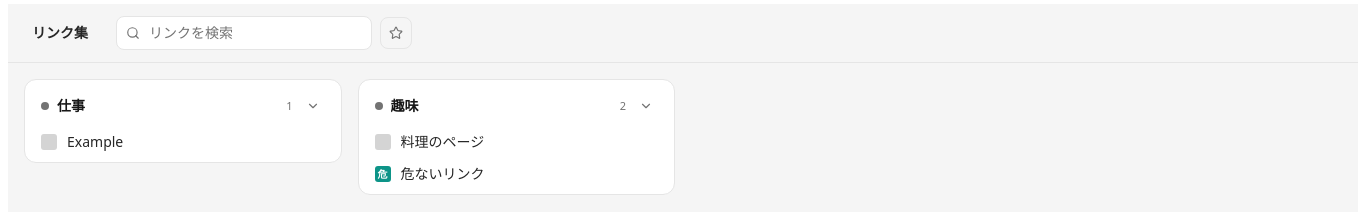
カードをたたむ（collapsible） › 閲覧専用でも、たためる
Expected: the text "Example" is shown, [67,132,123,152]
Click the button named "「仕事」をたたむ" at (312, 106), box [300,94,324,118]
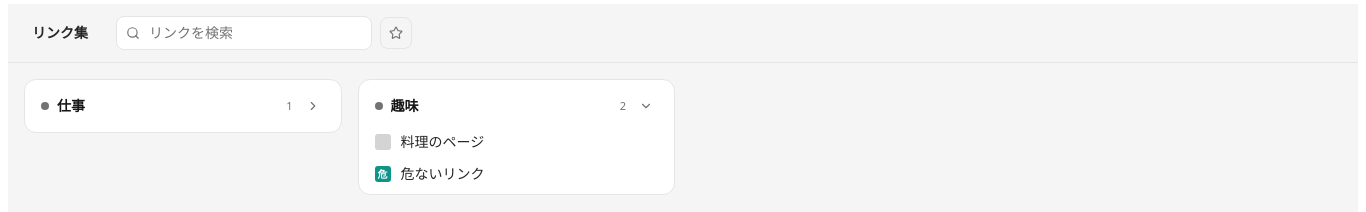
Now the link "Example" is gone
